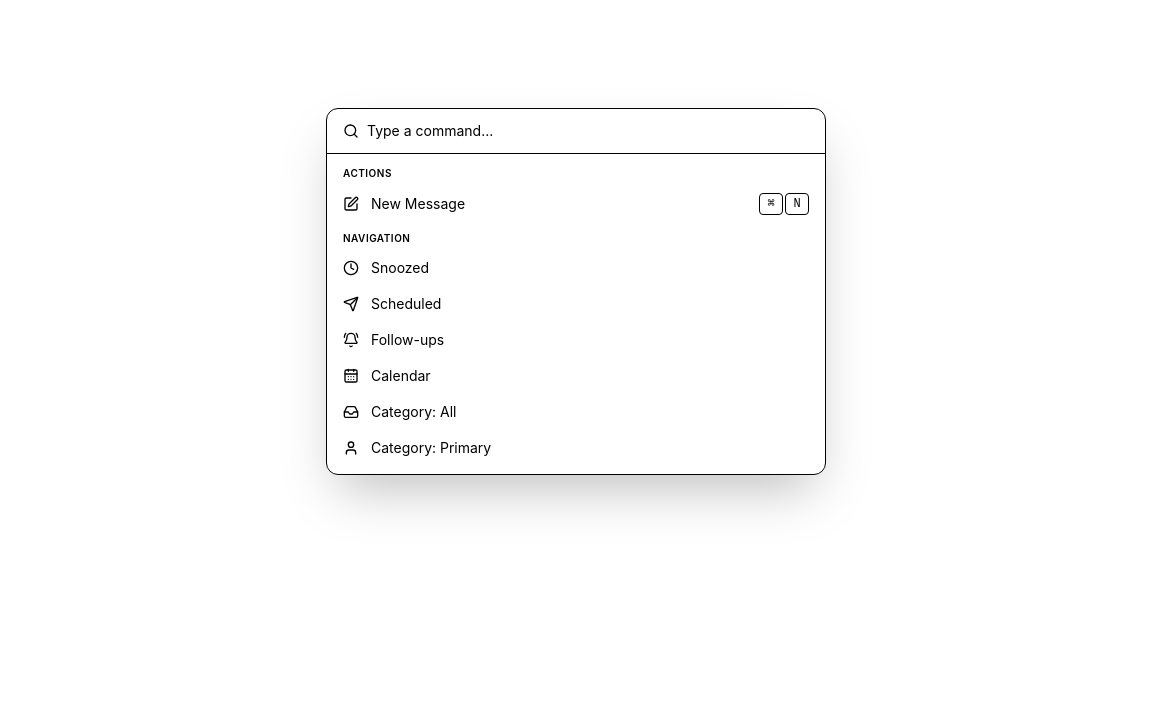
it: search fallthrough › always renders 'Search mail for' on any query, even gibberish
Type "zzxqvw" into the field with placeholder "Type a command...". click: {"x": 588, "y": 131}
box: [367,121,809,141]
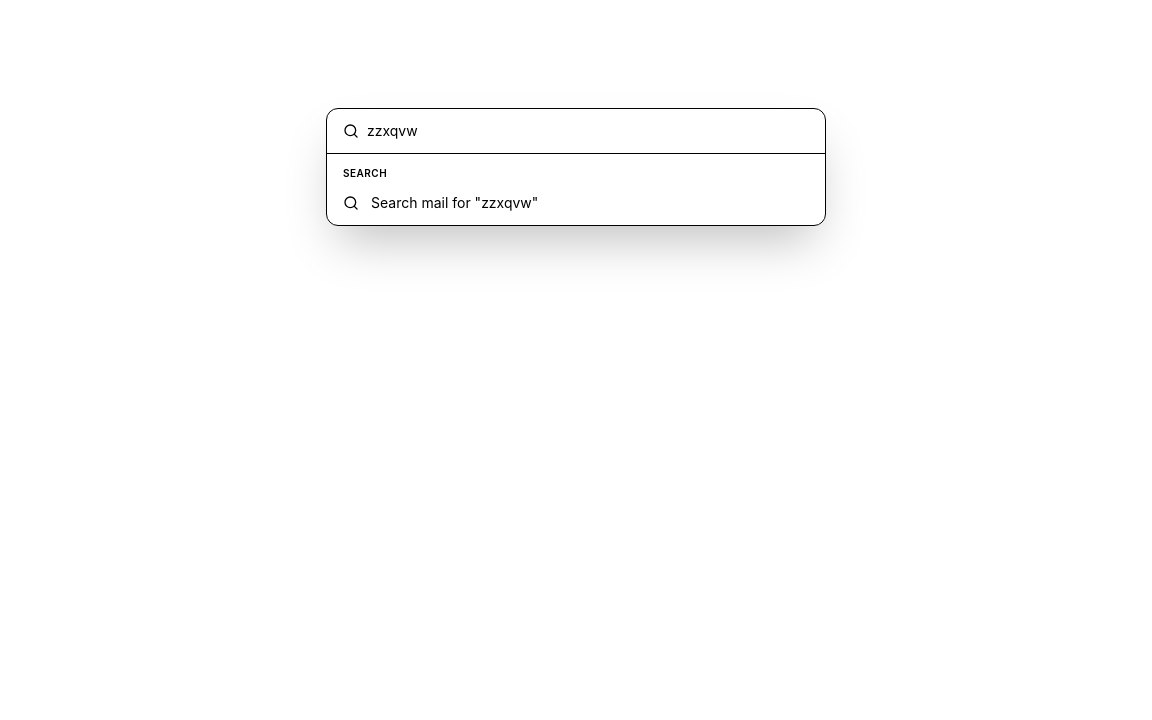
Result: the text "Search mail for \"zzxqvw\"" is shown at [371,193,538,213]
